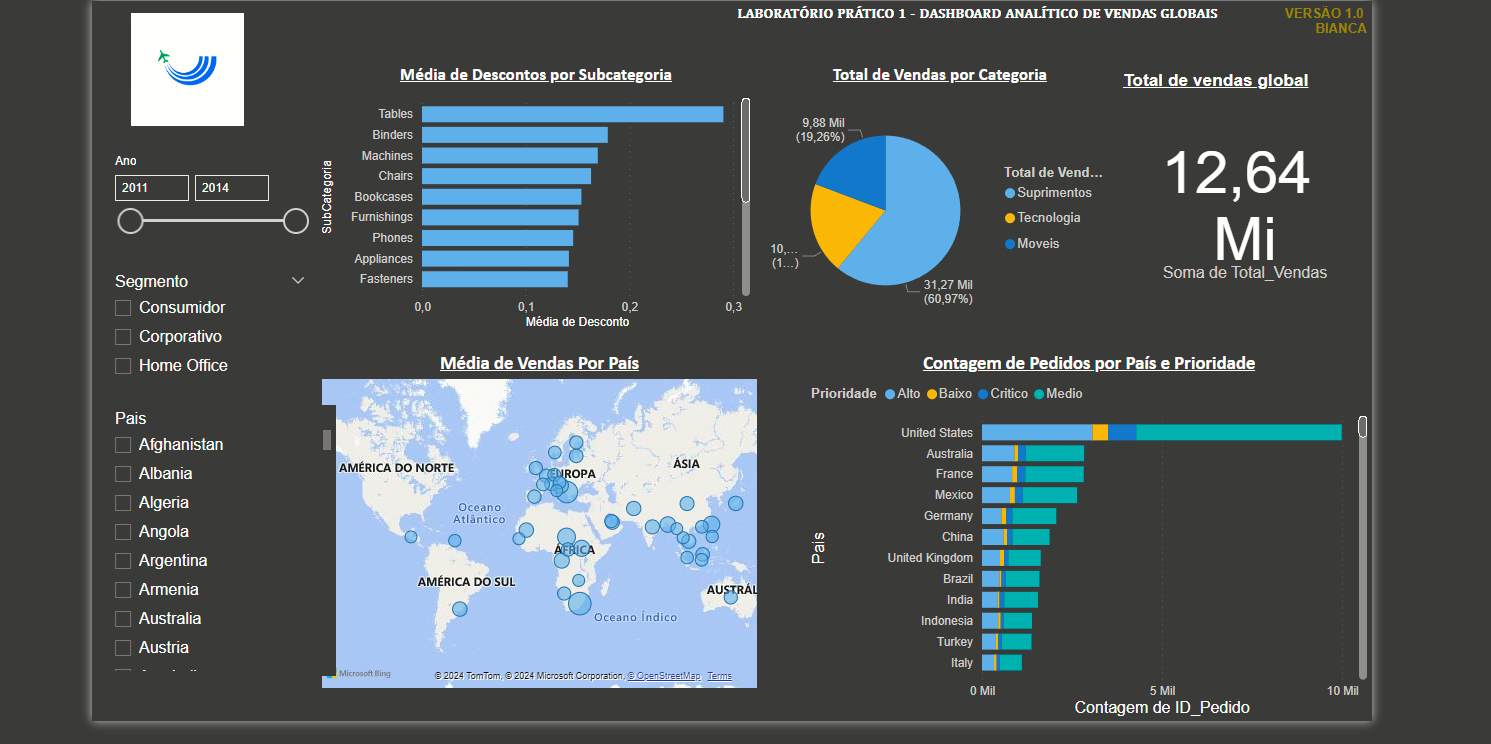

The page's visual inventory and layout, read from the dashboard file:
{"tool":"powerbi","page":{"name":"LAB01","canvas":[1280,720],"ordinal":0},"visuals":[{"type":"card","title":"Total de vendas global","fields":{"Values":["Sum(dataset.Total_Vendas)"]},"box":[1026,69,254,251],"z":0},{"type":"pieChart","title":"Total de Vendas por Categoria","fields":{"Category":["dataset.Categoria"],"Y":["CountNonNull(dataset.ID_Pedido)"]},"box":[670,62,356,274],"z":1000},{"type":"barChart","title":"Contagem de Pedidos por País e Prioridade","fields":{"Category":["dataset.Pais"],"Series":["dataset.Prioridade"],"Y":["CountNonNull(dataset.ID_Pedido)"]},"box":[714,350,566,370],"z":2000},{"type":"clusteredBarChart","title":"Média de Descontos por Subcategoria","fields":{"Category":["dataset.SubCategoria"],"Y":["Avg(dataset.Desconto)"]},"box":[225,62,438,271],"z":3000},{"type":"map","title":"Média de Vendas Por País","fields":{"Category":["dataset.Pais"],"Size":["Avg(dataset.Total_Vendas)"]},"box":[225,350,445,342],"z":4000},{"type":"slicer","fields":{"Values":["dataset.Pais"]},"box":[10,404,234,271],"z":5000},{"type":"slicer","fields":{"Values":["dataset.Segmento"]},"box":[10,267,215,137],"z":6000},{"type":"slicer","fields":{"Values":["dataset.Data_Pedido.Variation.Hierarquia de datas.Ano"]},"box":[10,148,215,119],"z":7000},{"type":"textbox","box":[640,0,541,43],"z":8000},{"type":"textbox","box":[1167,0,113,62],"z":9000},{"type":"image","box":[32,7,127,123],"z":10000}]}

Visuals, with their boxes on the page's 1280x720 design canvas (x1, y1, x2, y2). These are canvas units, not pixel positions in the 1491x744 screenshot, which may show the page scaled, cropped or inside an application window:
"Total de vendas global" card: (left=1026, top=69, right=1280, bottom=320)
"Total de Vendas por Categoria" pieChart: (left=670, top=62, right=1026, bottom=336)
"Contagem de Pedidos por País e Prioridade" barChart: (left=714, top=350, right=1280, bottom=720)
"Média de Descontos por Subcategoria" clusteredBarChart: (left=225, top=62, right=663, bottom=333)
"Média de Vendas Por País" map: (left=225, top=350, right=670, bottom=692)
slicer - dataset.Pais: (left=10, top=404, right=244, bottom=675)
slicer - dataset.Segmento: (left=10, top=267, right=225, bottom=404)
slicer - dataset.Data_Pedido.Variation.Hierarquia de datas.Ano: (left=10, top=148, right=225, bottom=267)
textbox: (left=640, top=0, right=1181, bottom=43)
textbox: (left=1167, top=0, right=1280, bottom=62)
image: (left=32, top=7, right=159, bottom=130)
